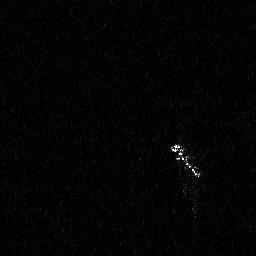ship: (168, 141, 205, 184)
